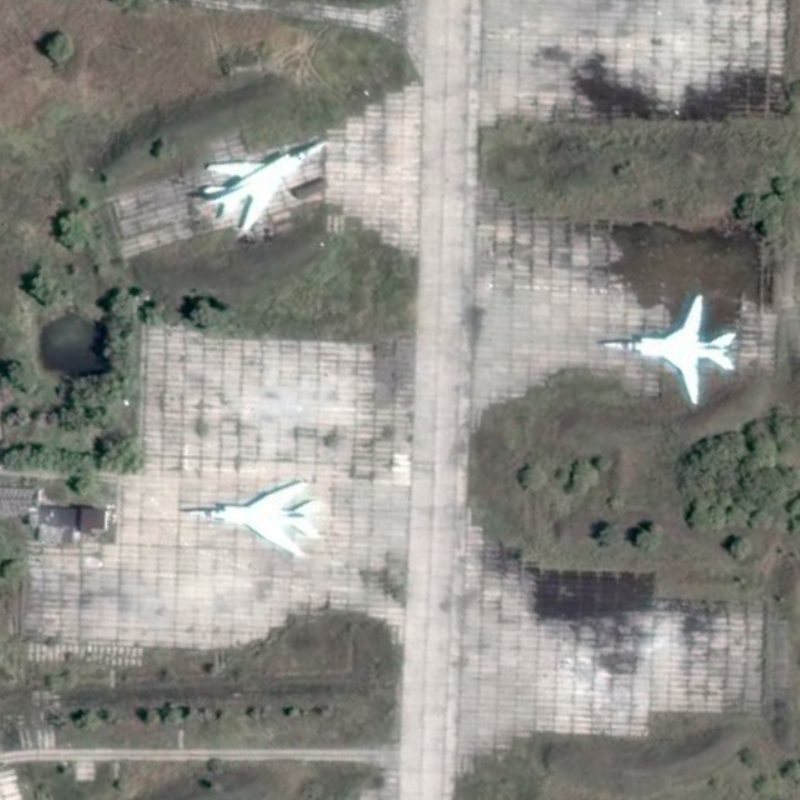A12: (598, 292, 739, 409), (199, 136, 330, 236), (185, 478, 323, 562)
